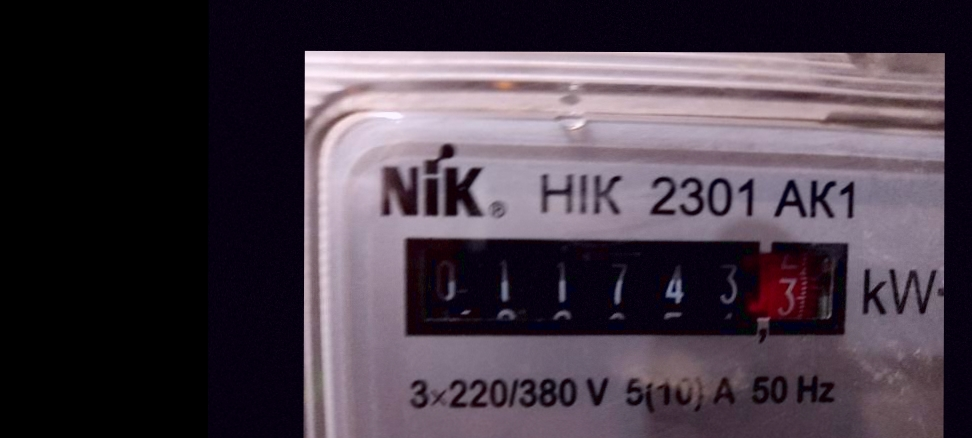0: (431, 255, 460, 302)
1: (551, 257, 572, 305), (496, 256, 513, 304)
3: (715, 259, 743, 306), (775, 273, 799, 317)
4: (661, 258, 689, 306)
7: (607, 259, 631, 307)
screen: (389, 227, 855, 347)
